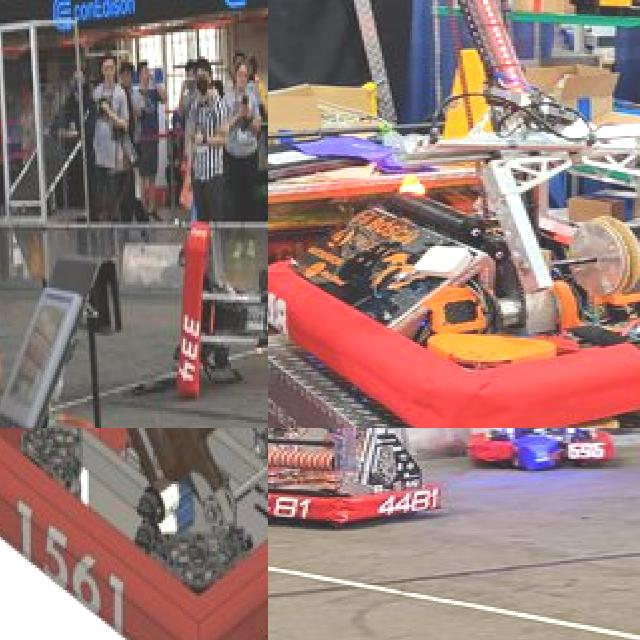FRC-Robots: (268, 0, 640, 428), (0, 428, 268, 640), (268, 428, 423, 578), (174, 204, 268, 420), (465, 428, 640, 526)
